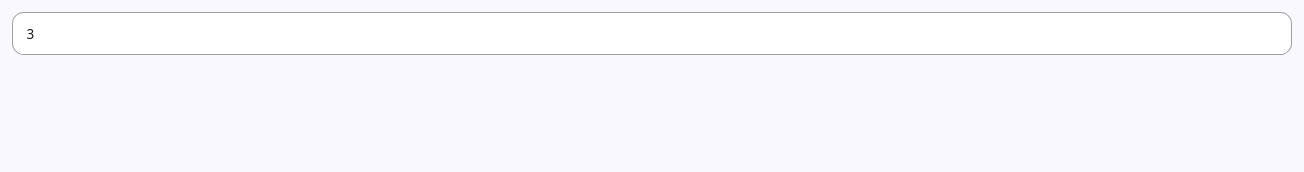
NumberInput › clamps out-of-range numbers on blur and restores previous value when blurred empty
Blur while empty restores last valid value without emitting NaN/0
Clear the number field named "重做次数" at x=652, y=33, box left=12, top=12, right=1292, bottom=55
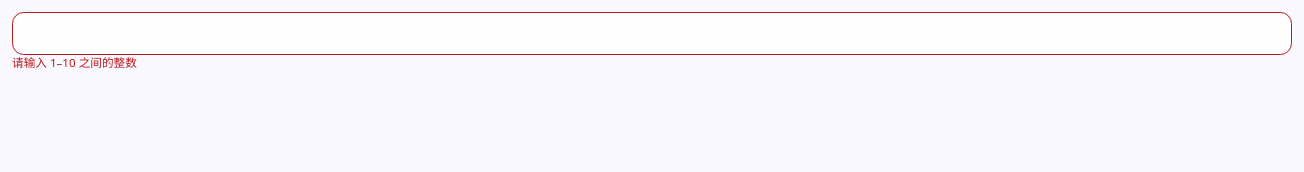
Leave the number field named "重做次数", box left=12, top=12, right=1292, bottom=55
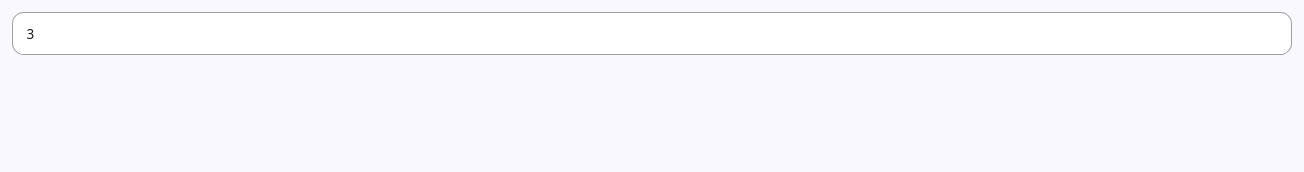
expect the number field named "重做次数" holds "3": met
Blur above max clamps and emits max
Replace the text in the number field named "重做次数" with "99" at x=652, y=33, box left=12, top=12, right=1292, bottom=55
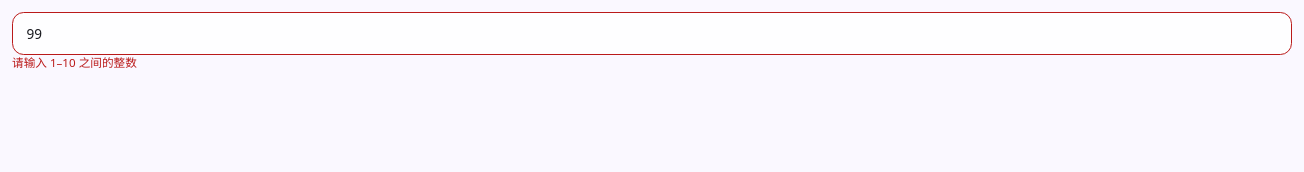
Leave the number field named "重做次数", box left=12, top=12, right=1292, bottom=55
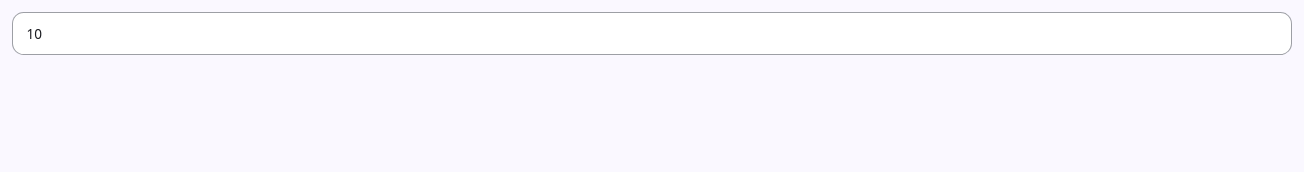
expect the number field named "重做次数" holds "10": met
Blur below min clamps and emits min
Replace the text in the number field named "重做次数" with "0" at x=652, y=33, box left=12, top=12, right=1292, bottom=55
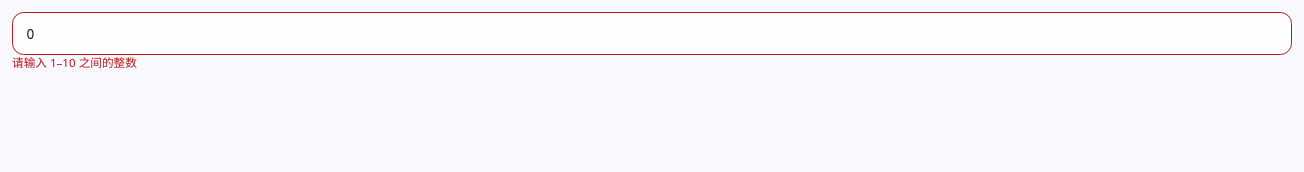
Leave the number field named "重做次数", box left=12, top=12, right=1292, bottom=55
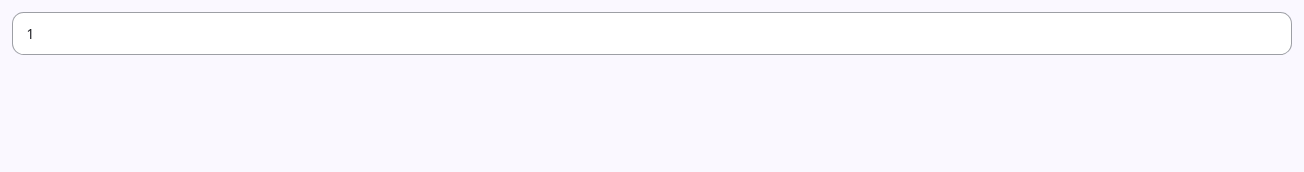
expect the number field named "重做次数" holds "1": met, box left=12, top=12, right=1292, bottom=55
